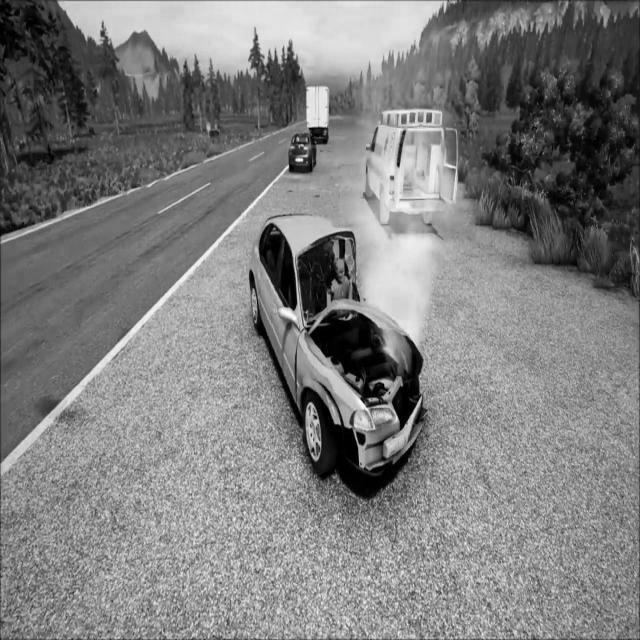accident: (244, 211, 432, 490)
vehicle: (361, 108, 459, 226), (305, 86, 331, 144), (286, 133, 318, 171)
